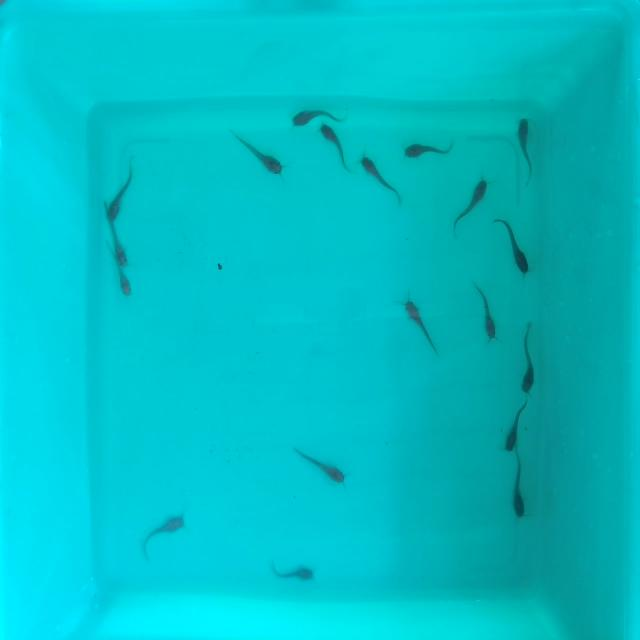lele: (228, 124, 288, 177), (288, 444, 347, 490), (493, 216, 535, 275), (448, 175, 489, 233), (357, 154, 402, 206), (403, 301, 441, 357), (106, 161, 138, 220), (318, 119, 354, 168), (145, 515, 186, 556), (101, 218, 132, 265), (508, 397, 532, 454), (474, 284, 496, 341), (266, 559, 316, 584), (509, 451, 525, 519), (292, 106, 346, 126), (402, 138, 455, 158), (521, 324, 536, 394), (517, 117, 532, 185), (112, 269, 132, 300)
